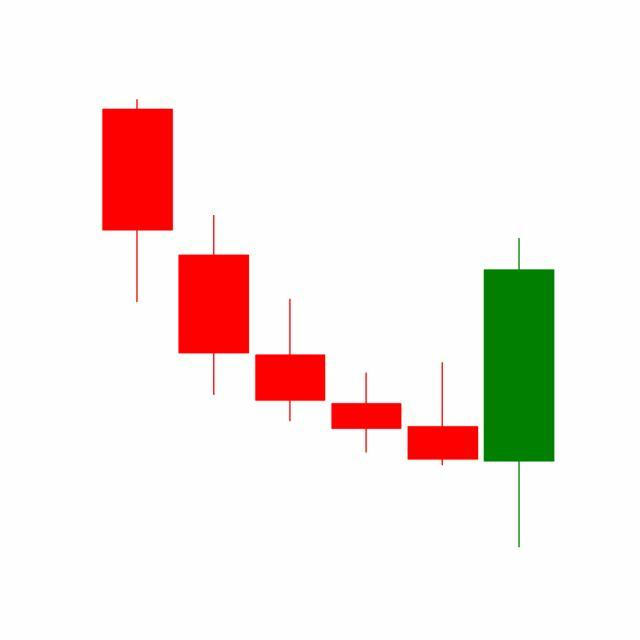Three Line Strike: (251, 234, 555, 548)
